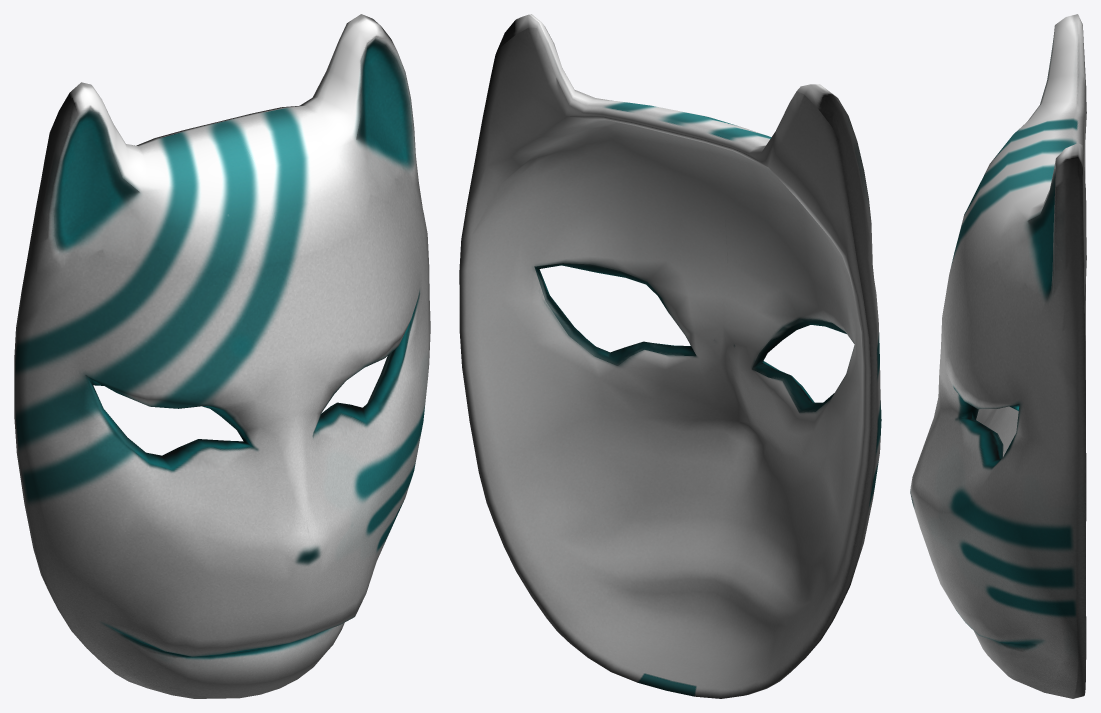
The model's file is mask_ambu.glb.
3 renders of one model, left to right at view 1: azimuth 30°, elevation 25°; view 2: azimuth 150°, elevation 25°; view 3: azimuth 270°, elevation 25°, orthographic. The views are drawn at different scales.
Size of the model in its own units: 2.75 by 4.06 by 1.09.
Materials: 1 (1 with a texture image).
